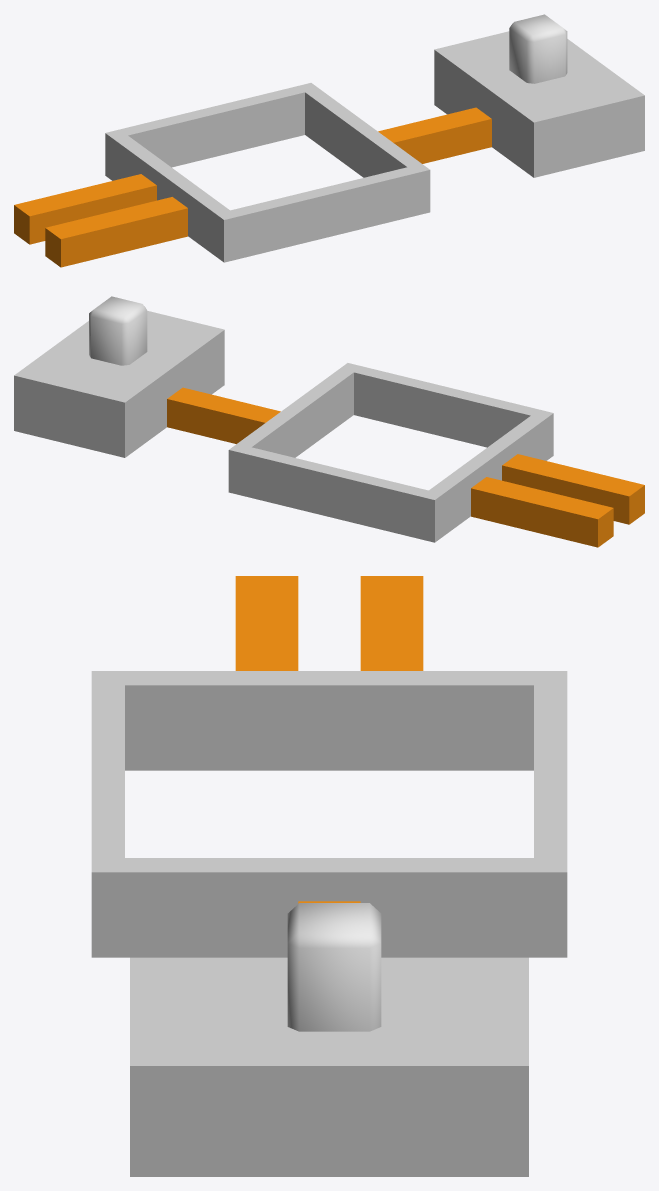
The model's file is Gate_Tester.fbx.
3 renders of one model, top to bottom at view 1: azimuth 30°, elevation 25°; view 2: azimuth 150°, elevation 25°; view 3: azimuth 270°, elevation 25°, orthographic. The views are drawn at different scales.
Parts seen in each view (by area): view 1: Test_Slot, Test_Light, Test_Wires; view 2: Test_Slot, Test_Light, Test_Wires; view 3: Test_Slot, Test_Light, Test_Wires.
Boxes of the visible parts, x1,y1,x2,y2 form: Test_Slot: (105,83,430,262); Test_Light: (434,14,644,177); Test_Wires: (14,107,491,267); Test_Slot: (228,363,553,542); Test_Light: (14,296,224,457); Test_Wires: (167,387,644,547); Test_Slot: (91,671,567,957); Test_Light: (130,903,528,1176); Test_Wires: (235,576,423,903).
Size of the model in its own units: 457 by 80.24 by 169.
